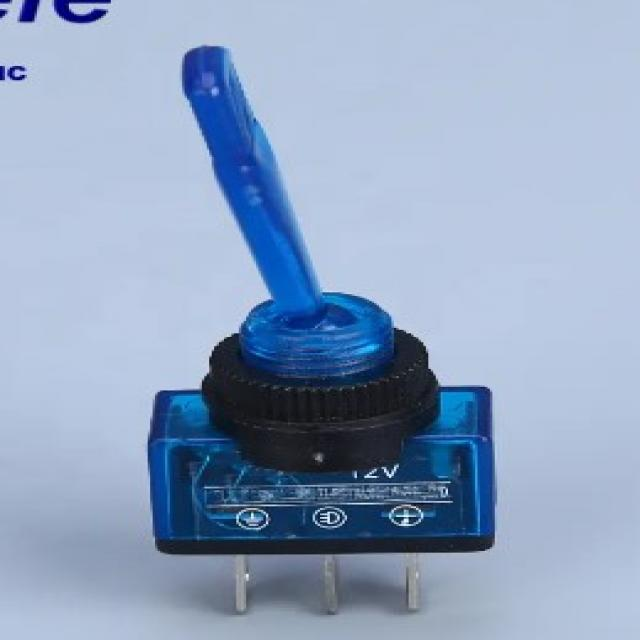toggle switch: (175, 46, 438, 425)
